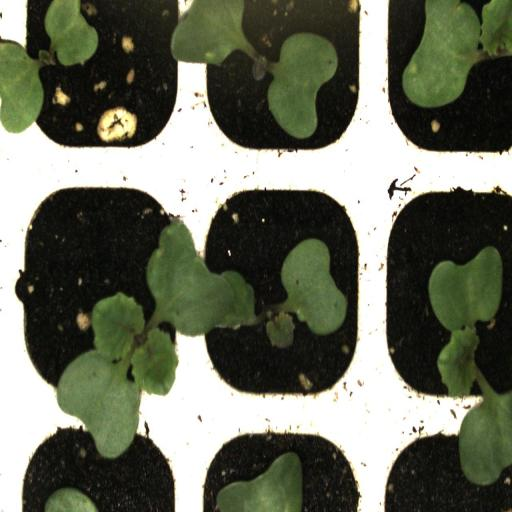Folha: (266, 238, 348, 344), (267, 31, 339, 140), (170, 0, 252, 67), (216, 452, 303, 512)
Germinacao: (185, 173, 373, 416), (10, 169, 186, 416), (372, 172, 512, 417), (12, 0, 186, 181), (186, 2, 372, 164), (371, 0, 512, 170)
